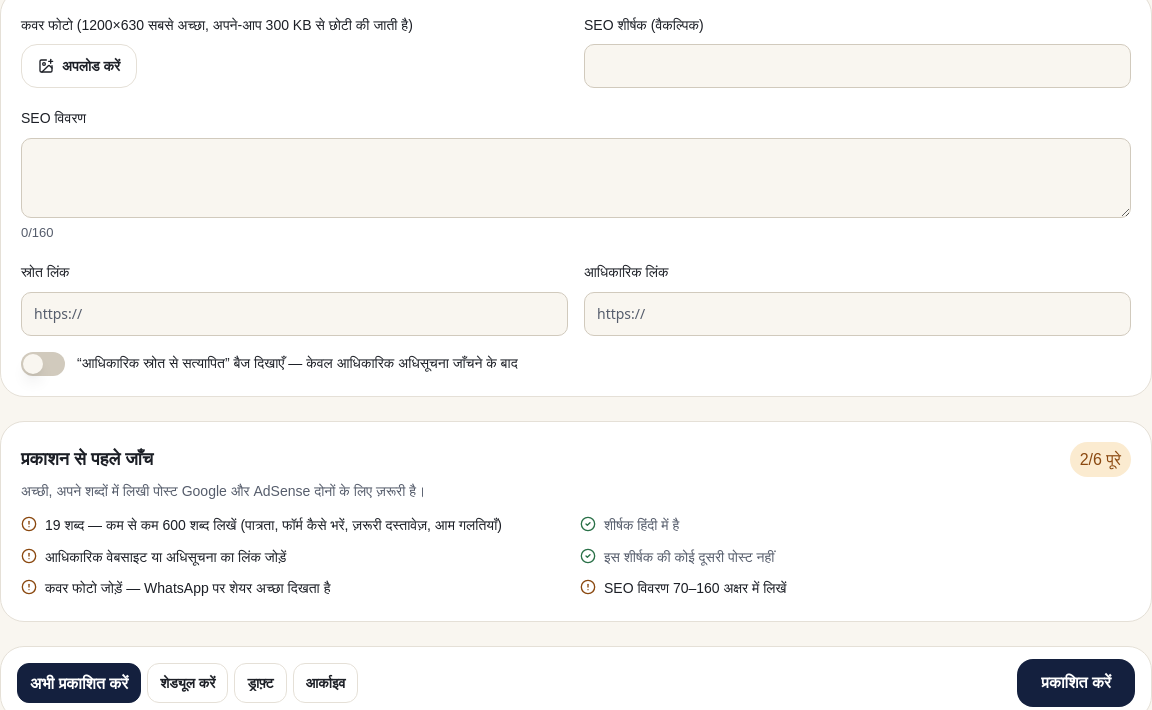
Test: Post editor › blocks saving with clear Hindi errors
(page scrolled)
Click the button "प्रकाशित करें" at (1076, 683), box [1017,659,1135,707]
(page scrolled)
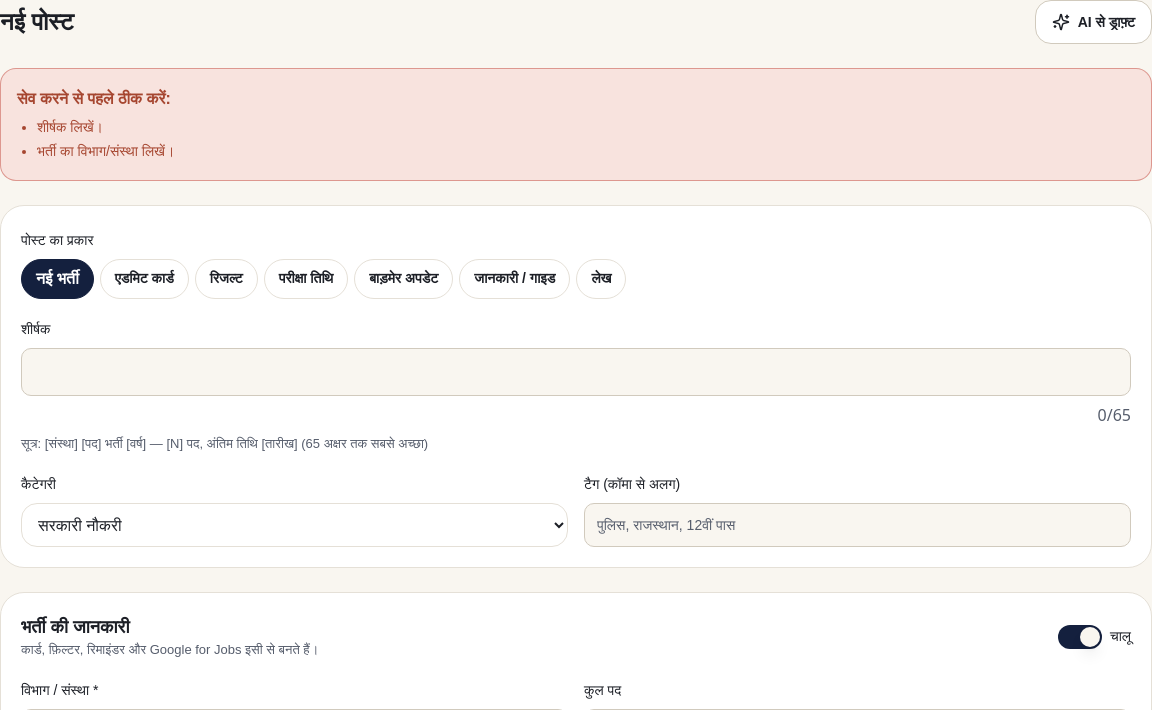
Expected: the message shows "शीर्षक लिखें।", [37,119,103,135]
Expected: the message shows "भर्ती का विभाग/संस्था लिखें।", [37,143,174,159]
